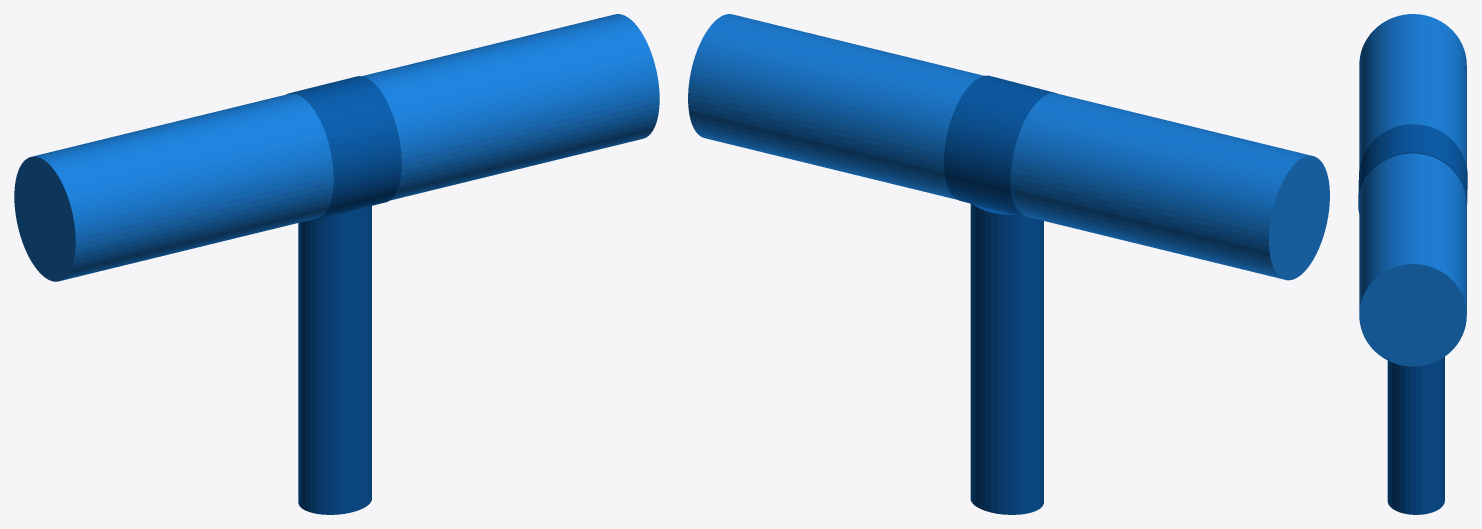
The model's file is silindir_engel.fbx.
3 renders of one model, left to right at view 1: azimuth 30°, elevation 25°; view 2: azimuth 150°, elevation 25°; view 3: azimuth 270°, elevation 25°, orthographic. The views are drawn at different scales.
Parts seen in each view (by area): view 1: Cylinder.003, Cylinder.002, Cylinder.004; view 2: Cylinder.003, Cylinder.002, Cylinder.004; view 3: Cylinder.003, Cylinder.002, Cylinder.004.
Part boxes in pixels (left/top/right/bottom): Cylinder.003: left=14, top=14, right=659, bottom=281; Cylinder.002: left=298, top=206, right=371, bottom=514; Cylinder.004: left=286, top=76, right=401, bottom=219; Cylinder.003: left=688, top=14, right=1329, bottom=280; Cylinder.002: left=970, top=204, right=1043, bottom=514; Cylinder.004: left=944, top=75, right=1056, bottom=218; Cylinder.003: left=1359, top=14, right=1466, bottom=366; Cylinder.002: left=1387, top=357, right=1444, bottom=514; Cylinder.004: left=1358, top=124, right=1467, bottom=213.
Size of the model in its own units: 216 by 146 by 40.
